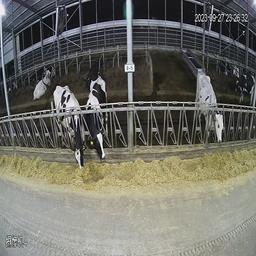cow: (52, 84, 85, 170), (195, 69, 223, 146), (87, 77, 109, 164), (234, 71, 254, 106), (32, 70, 53, 99), (86, 58, 103, 90)
